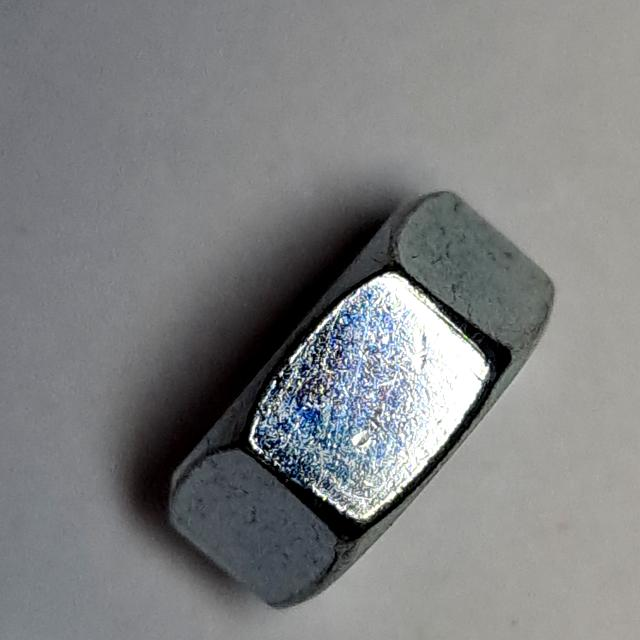Side_Excellent: (158, 179, 564, 625)
